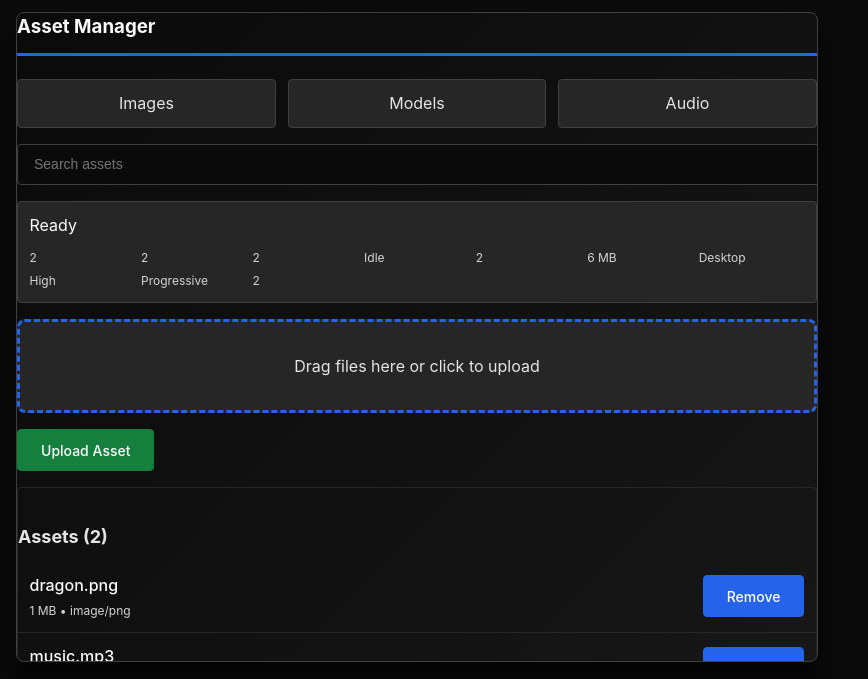
Test: AssetPanel Component › filters the displayed assets by category and search term
Click the button "Images". click: (146, 103)
box: [17, 79, 276, 128]
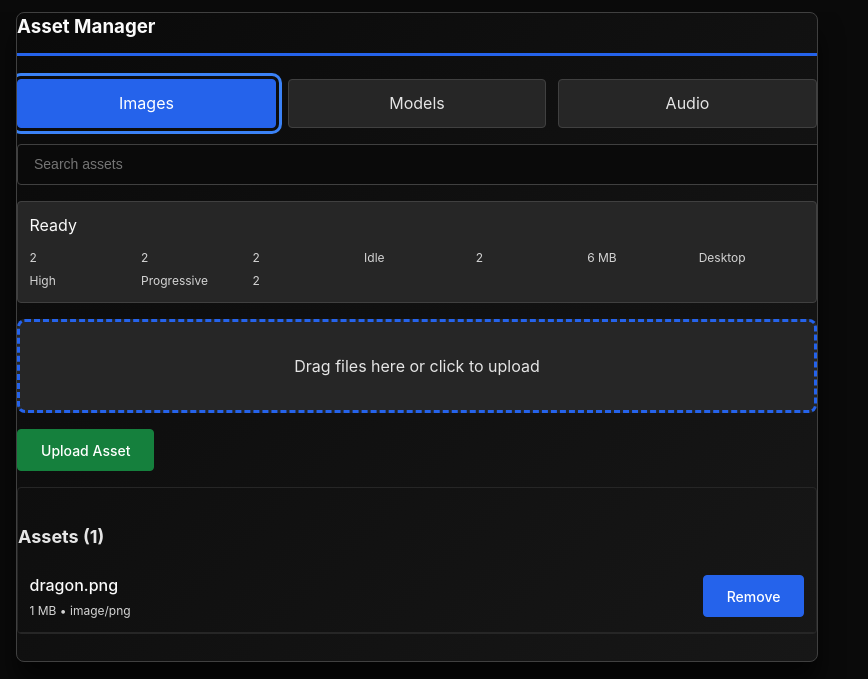
Expected: the text "dragon.png" is shown, [30, 575, 118, 595]
Expected: the text "music.mp3" is gone
Type "missing" into the field with placeholder "Search assets". click: (434, 164)
box: [17, 144, 851, 185]
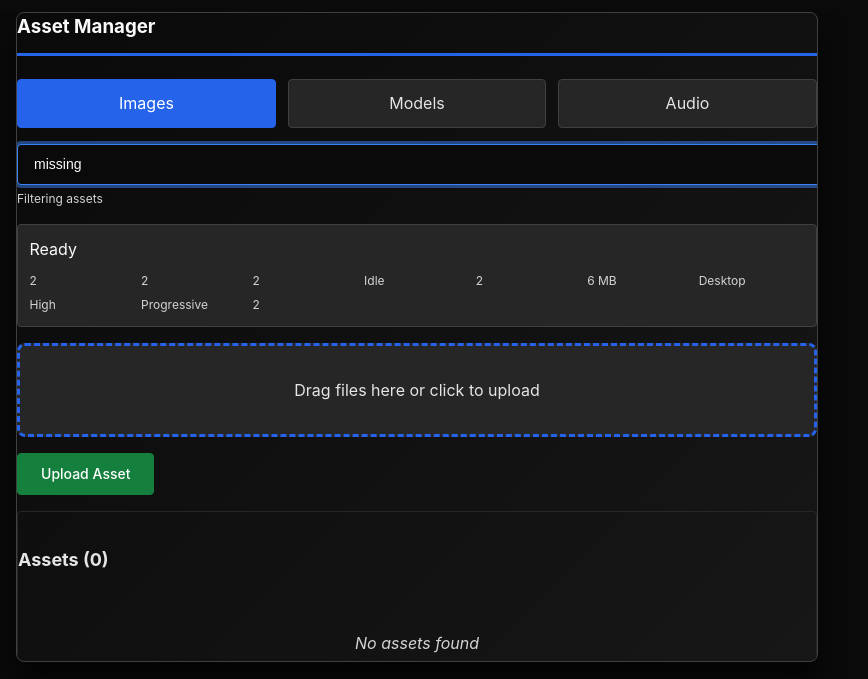
Expected: the message reads "Filtering assets", [17, 191, 103, 206]
Expected: the text "No assets found" is shown, [355, 633, 479, 653]
